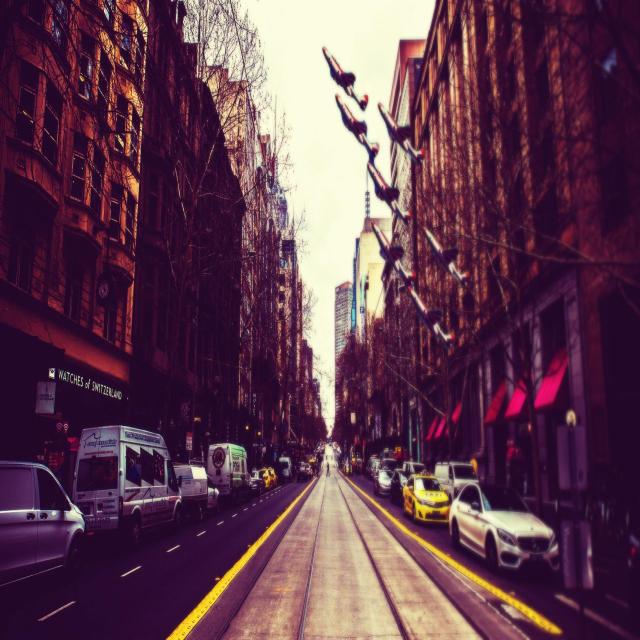airplane: (406, 283, 454, 351), (369, 218, 414, 288), (334, 94, 380, 162), (366, 160, 412, 227), (424, 222, 469, 288), (377, 99, 424, 162), (322, 49, 368, 110)
